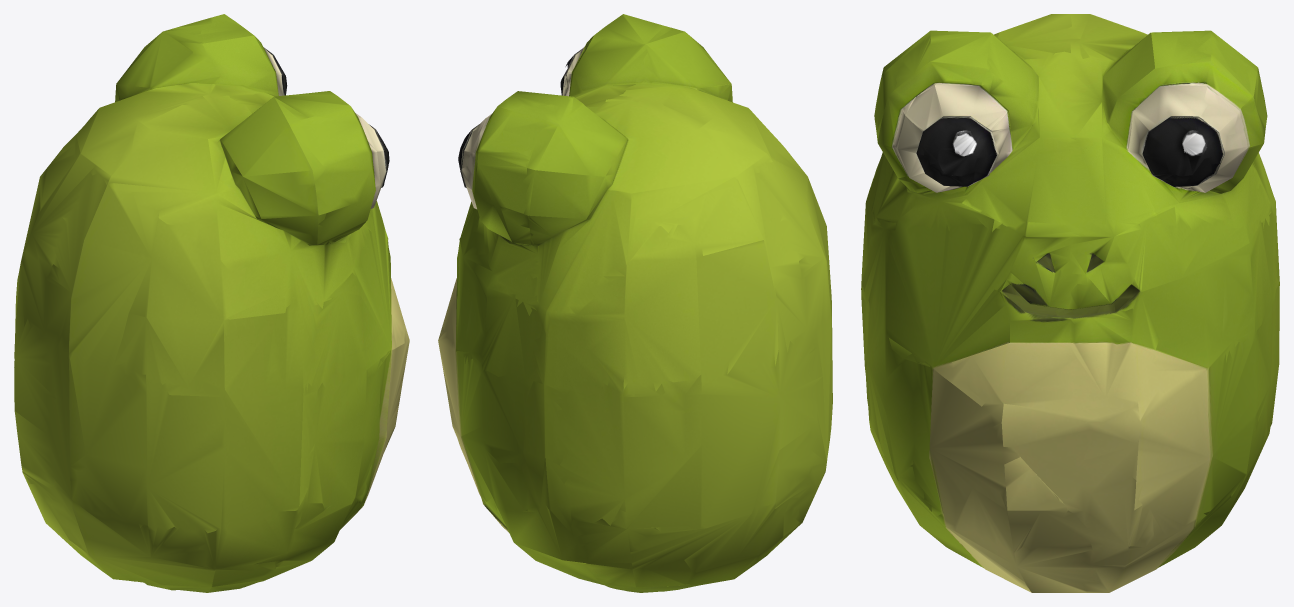
File: frog_final.fbx
The picture shows the model from 3 angles, left to right: view 1: azimuth 30°, elevation 25°; view 2: azimuth 150°, elevation 25°; view 3: azimuth 270°, elevation 25°; orthographic projection. The views are drawn at different scales.
Visible parts, largest first — view 1: tripo_node_a7d9caeb; view 2: tripo_node_a7d9caeb; view 3: tripo_node_a7d9caeb.
Part boxes in pixels (<box>): tripo_node_a7d9caeb: <box>14,14,409,592</box>; tripo_node_a7d9caeb: <box>438,14,832,592</box>; tripo_node_a7d9caeb: <box>861,14,1279,592</box>.
Bounding box in the file's own units: 71.83 × 97.98 × 69.23.
Materials: 1 (1 with a texture image).
